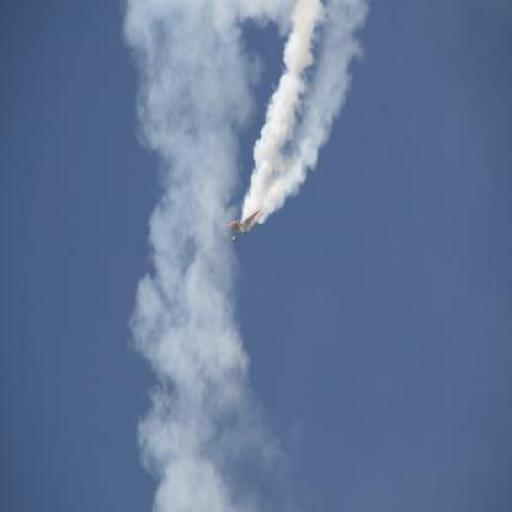aircraft: (219, 204, 265, 245)
